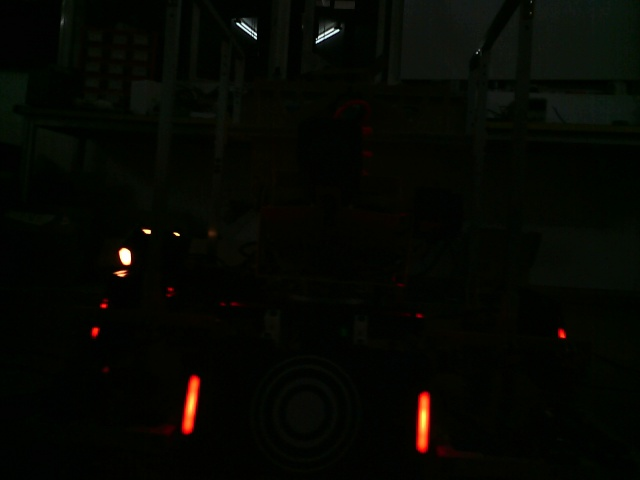lamp: (178, 372, 207, 437), (415, 389, 431, 454)
